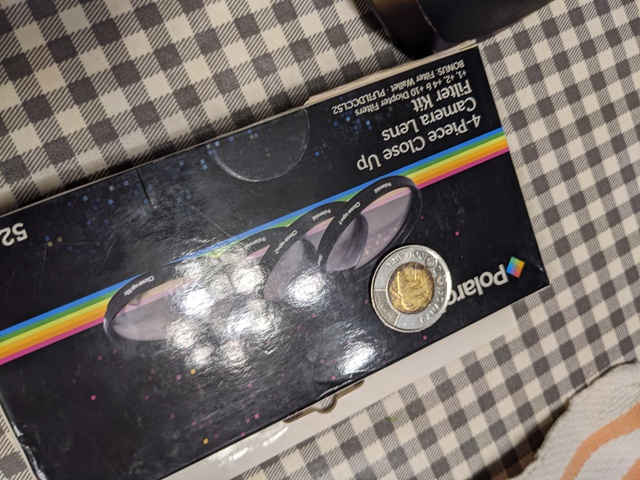twonie: (370, 234, 452, 335)
